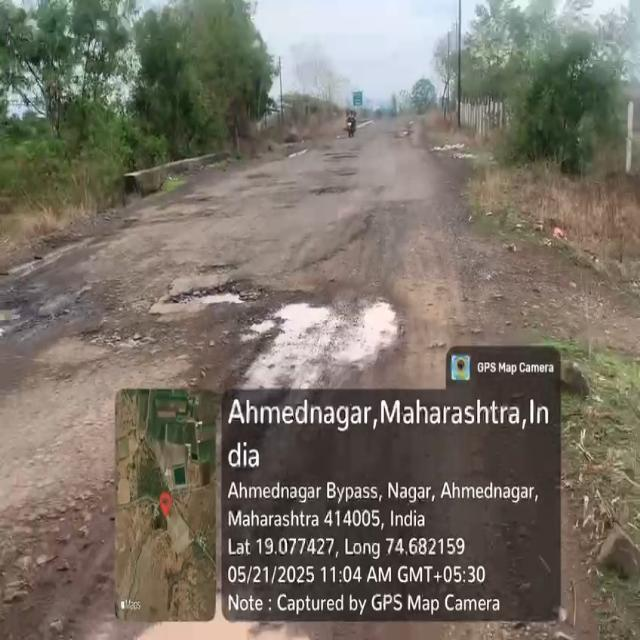damage surface: (260, 288, 394, 391), (93, 325, 218, 380), (3, 287, 77, 340), (308, 186, 354, 201)
pothole: (162, 276, 252, 322)
